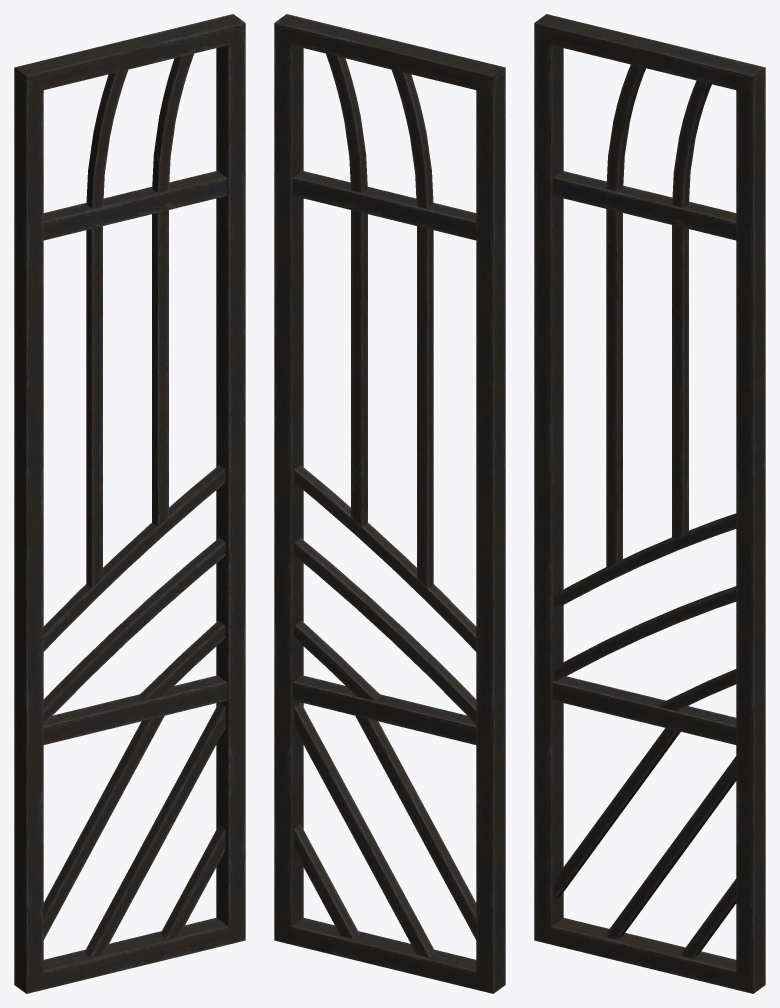
File: tth_metal_bars_02.dae
3 renders of one model, left to right at view 1: azimuth 30°, elevation 25°; view 2: azimuth 150°, elevation 25°; view 3: azimuth 330°, elevation 25°, orthographic.
Visible parts, largest first — view 1: Short; view 2: Short; view 3: Short.
Part boxes in pixels (left/top/right/bottom): Short: left=14, top=14, right=245, bottom=993; Short: left=274, top=14, right=505, bottom=993; Short: left=534, top=14, right=765, bottom=993.
Size of the model in its own units: 1 by 4 by 0.0977.
Materials: 1 (1 with a texture image).
